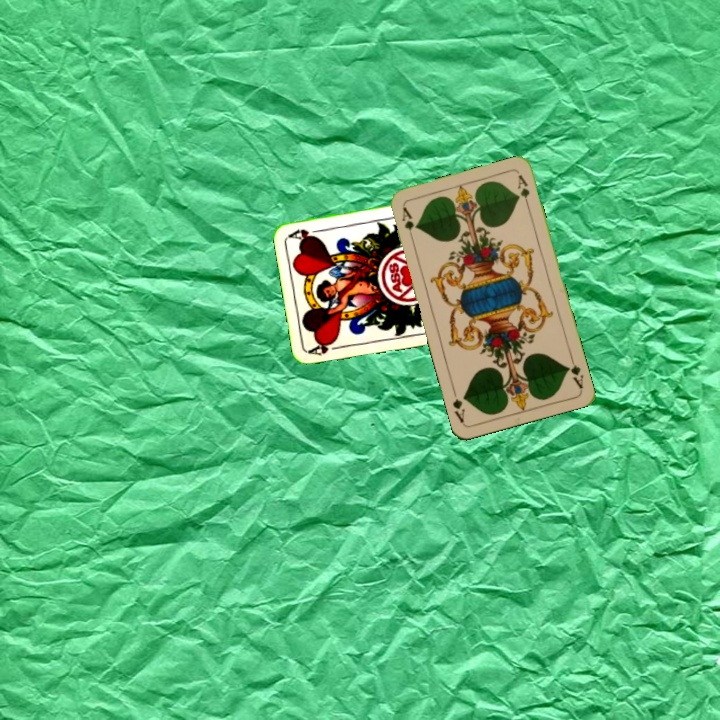GA: (563, 351, 586, 391), (398, 202, 419, 243)
HA: (306, 338, 347, 358)
